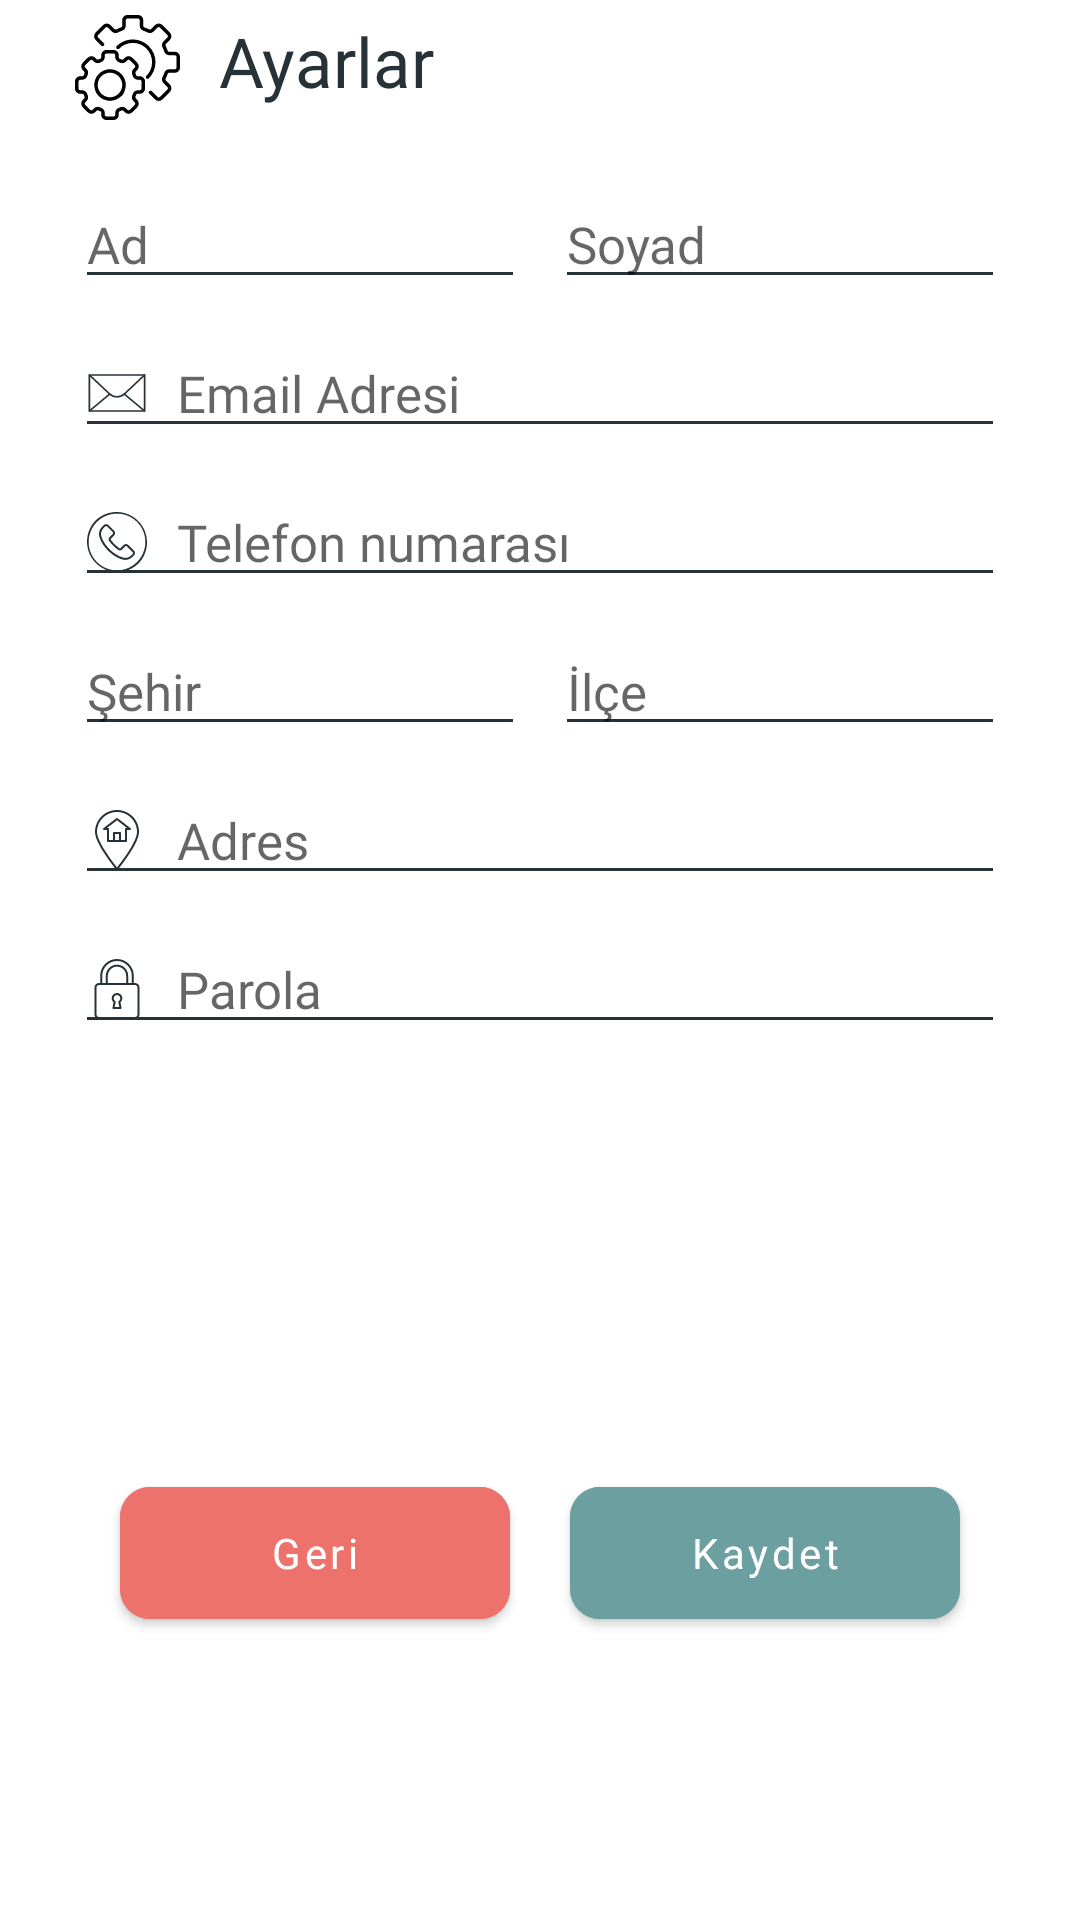

Where to tap for icons on this 1080x1920 app screen, as (x=x, y=y):
settings: (x=127, y=67)
